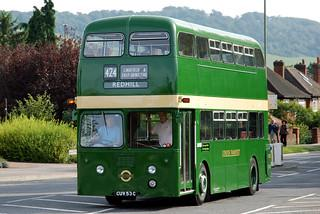bus: (79, 15, 273, 209)
